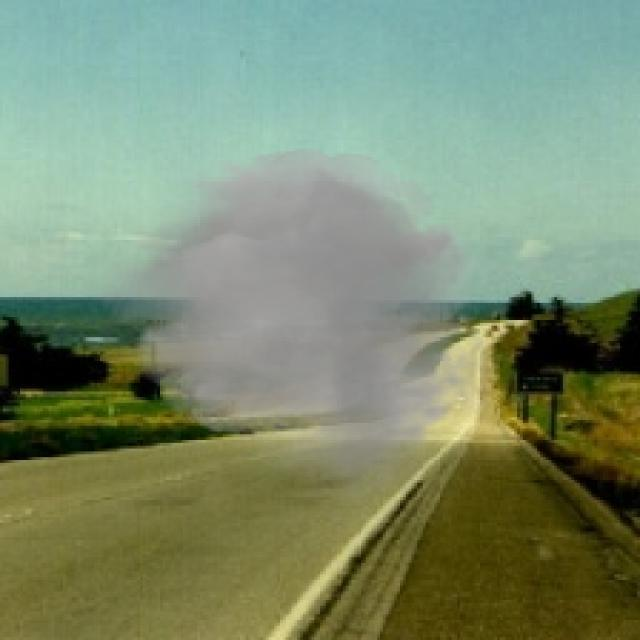Smoke: (82, 140, 508, 506)
